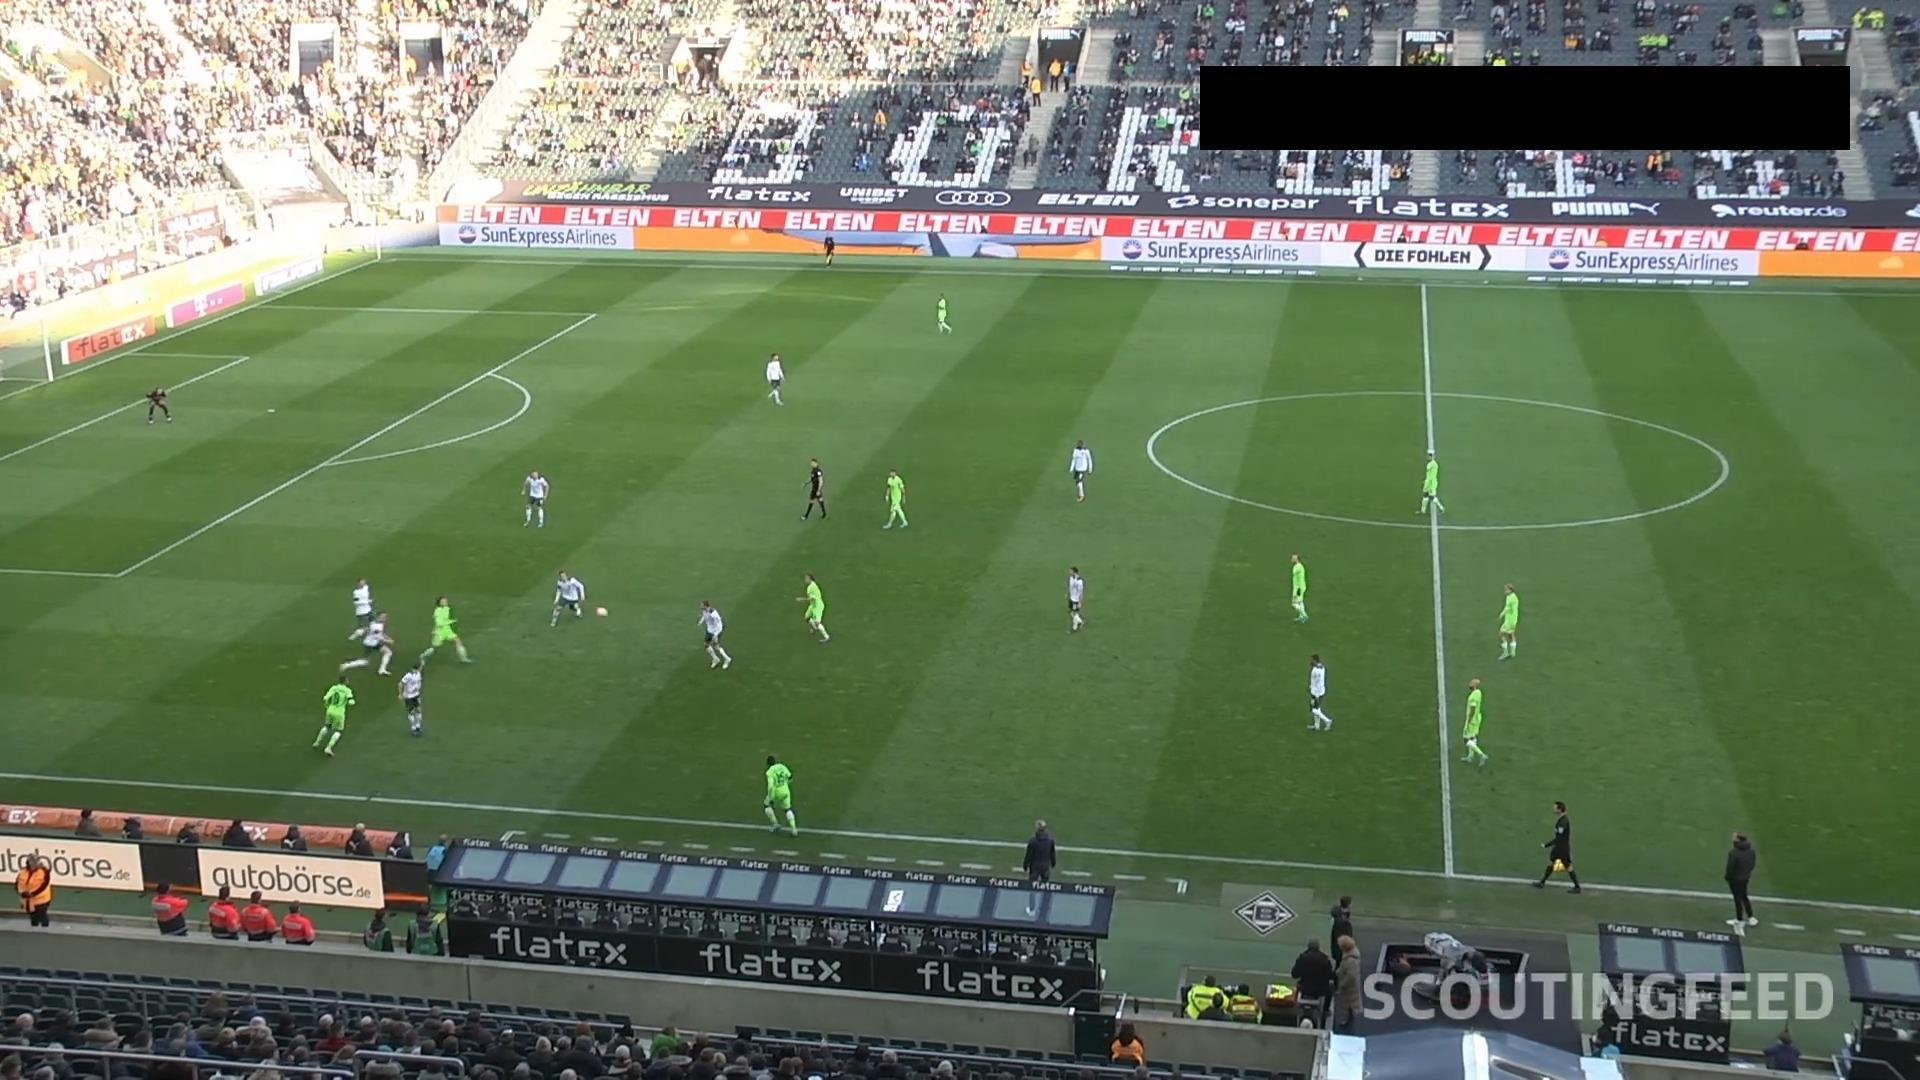ball: (595, 607, 608, 617)
coach: (1724, 830, 1759, 929), (1022, 819, 1056, 889)
player: (417, 595, 473, 666), (338, 610, 395, 676), (311, 675, 355, 757), (761, 754, 798, 836), (1459, 677, 1488, 767), (696, 598, 731, 670), (795, 572, 829, 642), (396, 657, 425, 736), (1306, 653, 1332, 731), (549, 570, 584, 627), (1416, 449, 1445, 514), (1495, 582, 1518, 660), (881, 469, 908, 529), (348, 576, 373, 640), (521, 470, 549, 527), (1068, 438, 1092, 502), (1289, 552, 1309, 623), (1066, 565, 1085, 632), (764, 351, 785, 405), (144, 385, 171, 423), (935, 292, 951, 334)
referee: (1535, 800, 1580, 893), (1290, 937, 1335, 1028), (799, 457, 827, 521), (822, 234, 835, 266)
